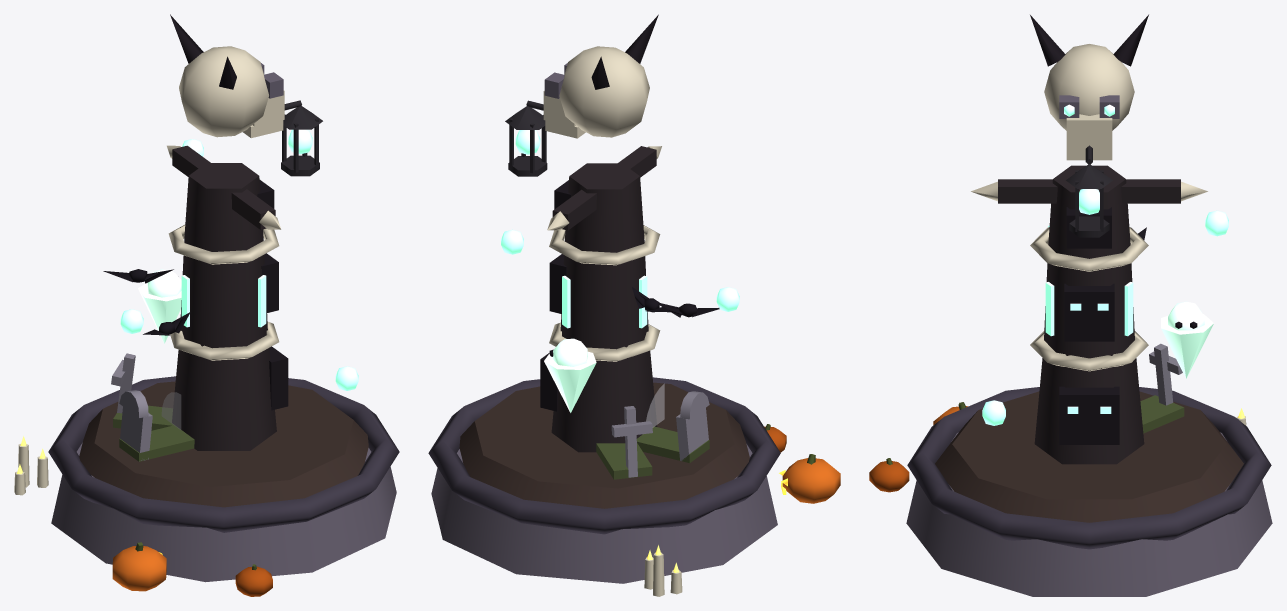
Rendered from tower_necromancer.glb.
3 renders of one model, left to right at view 1: azimuth 30°, elevation 25°; view 2: azimuth 150°, elevation 25°; view 3: azimuth 270°, elevation 25°, orthographic. The views are drawn at different scales.
Parts seen in each view (by area): view 1: grave_soil, base, base_rim, pole_0, pole_1, skull_cranium, pole_2, deco_hw_jack_body, bone_ring_1, crossbar, bone_ring_0, deco_hw_grave_0_mound (+14 smaller); view 2: grave_soil, base, base_rim, pole_0, pole_1, skull_cranium, pole_2, deco_hw_jack_body, bone_ring_1, crossbar, deco_hw_ghost_sheet, deco_hw_grave_0_mound (+12 smaller); view 3: grave_soil, base, base_rim, pole_0, skull_cranium, pole_1, pole_2, pole_face_0, crossbar, pole_face_1, bone_ring_1, bone_ring_0 (+11 smaller).
Part boxes in pixels (x1=…): grave_soil: x1=79, y1=381, x2=368, y2=507; base: x1=51, y1=442, x2=396, y2=582; base_rim: x1=48, y1=376, x2=399, y2=532; pole_0: x1=172, y1=348, x2=276, y2=450; pole_1: x1=180, y1=240, x2=267, y2=348; skull_cranium: x1=179, y1=46, x2=268, y2=137; pole_2: x1=184, y1=163, x2=263, y2=251; deco_hw_jack_body: x1=112, y1=546, x2=166, y2=591; bone_ring_1: x1=168, y1=224, x2=279, y2=264; crossbar: x1=172, y1=145, x2=275, y2=229; bone_ring_0: x1=170, y1=322, x2=279, y2=360; deco_hw_grave_0_mound: x1=119, y1=425, x2=194, y2=461; grave_soil: x1=459, y1=382, x2=749, y2=508; base: x1=431, y1=444, x2=777, y2=583; base_rim: x1=428, y1=377, x2=780, y2=534; pole_0: x1=551, y1=350, x2=657, y2=452; pole_1: x1=560, y1=240, x2=648, y2=349; skull_cranium: x1=559, y1=46, x2=649, y2=137; pole_2: x1=565, y1=163, x2=644, y2=252; deco_hw_jack_body: x1=782, y1=458, x2=840, y2=503; bone_ring_1: x1=549, y1=225, x2=660, y2=265; crossbar: x1=552, y1=146, x2=656, y2=230; deco_hw_ghost_sheet: x1=544, y1=351, x2=596, y2=412; deco_hw_grave_0_mound: x1=636, y1=426, x2=709, y2=463; grave_soil: x1=935, y1=391, x2=1243, y2=522; base: x1=906, y1=432, x2=1272, y2=596; base_rim: x1=907, y1=387, x2=1271, y2=549; pole_0: x1=1034, y1=358, x2=1144, y2=464; skull_cranium: x1=1044, y1=44, x2=1134, y2=130; pole_1: x1=1044, y1=247, x2=1134, y2=358; pole_2: x1=1048, y1=165, x2=1130, y2=258; pole_face_0: x1=1059, y1=386, x2=1119, y2=444; crossbar: x1=998, y1=179, x2=1180, y2=203; pole_face_1: x1=1064, y1=283, x2=1114, y2=341; bone_ring_1: x1=1030, y1=227, x2=1148, y2=271; bone_ring_0: x1=1030, y1=331, x2=1148, y2=371.
Bounding box in the file's own units: 0.4215 × 0.5985 × 0.4404.
